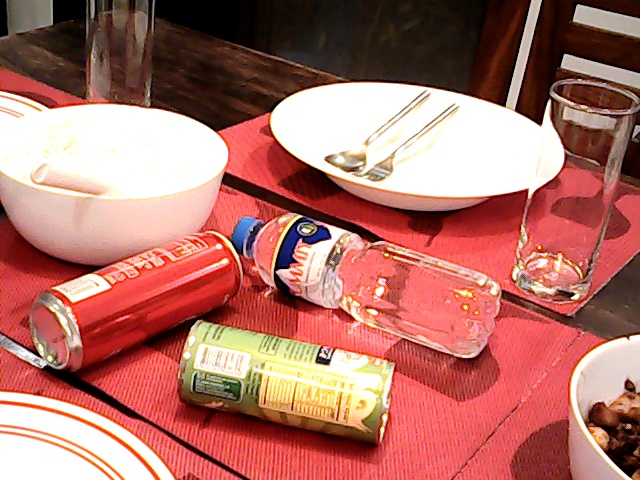Cola: (31, 219, 229, 345)
Pine Juice: (176, 316, 405, 434)
Summit Water: (237, 198, 504, 334)
